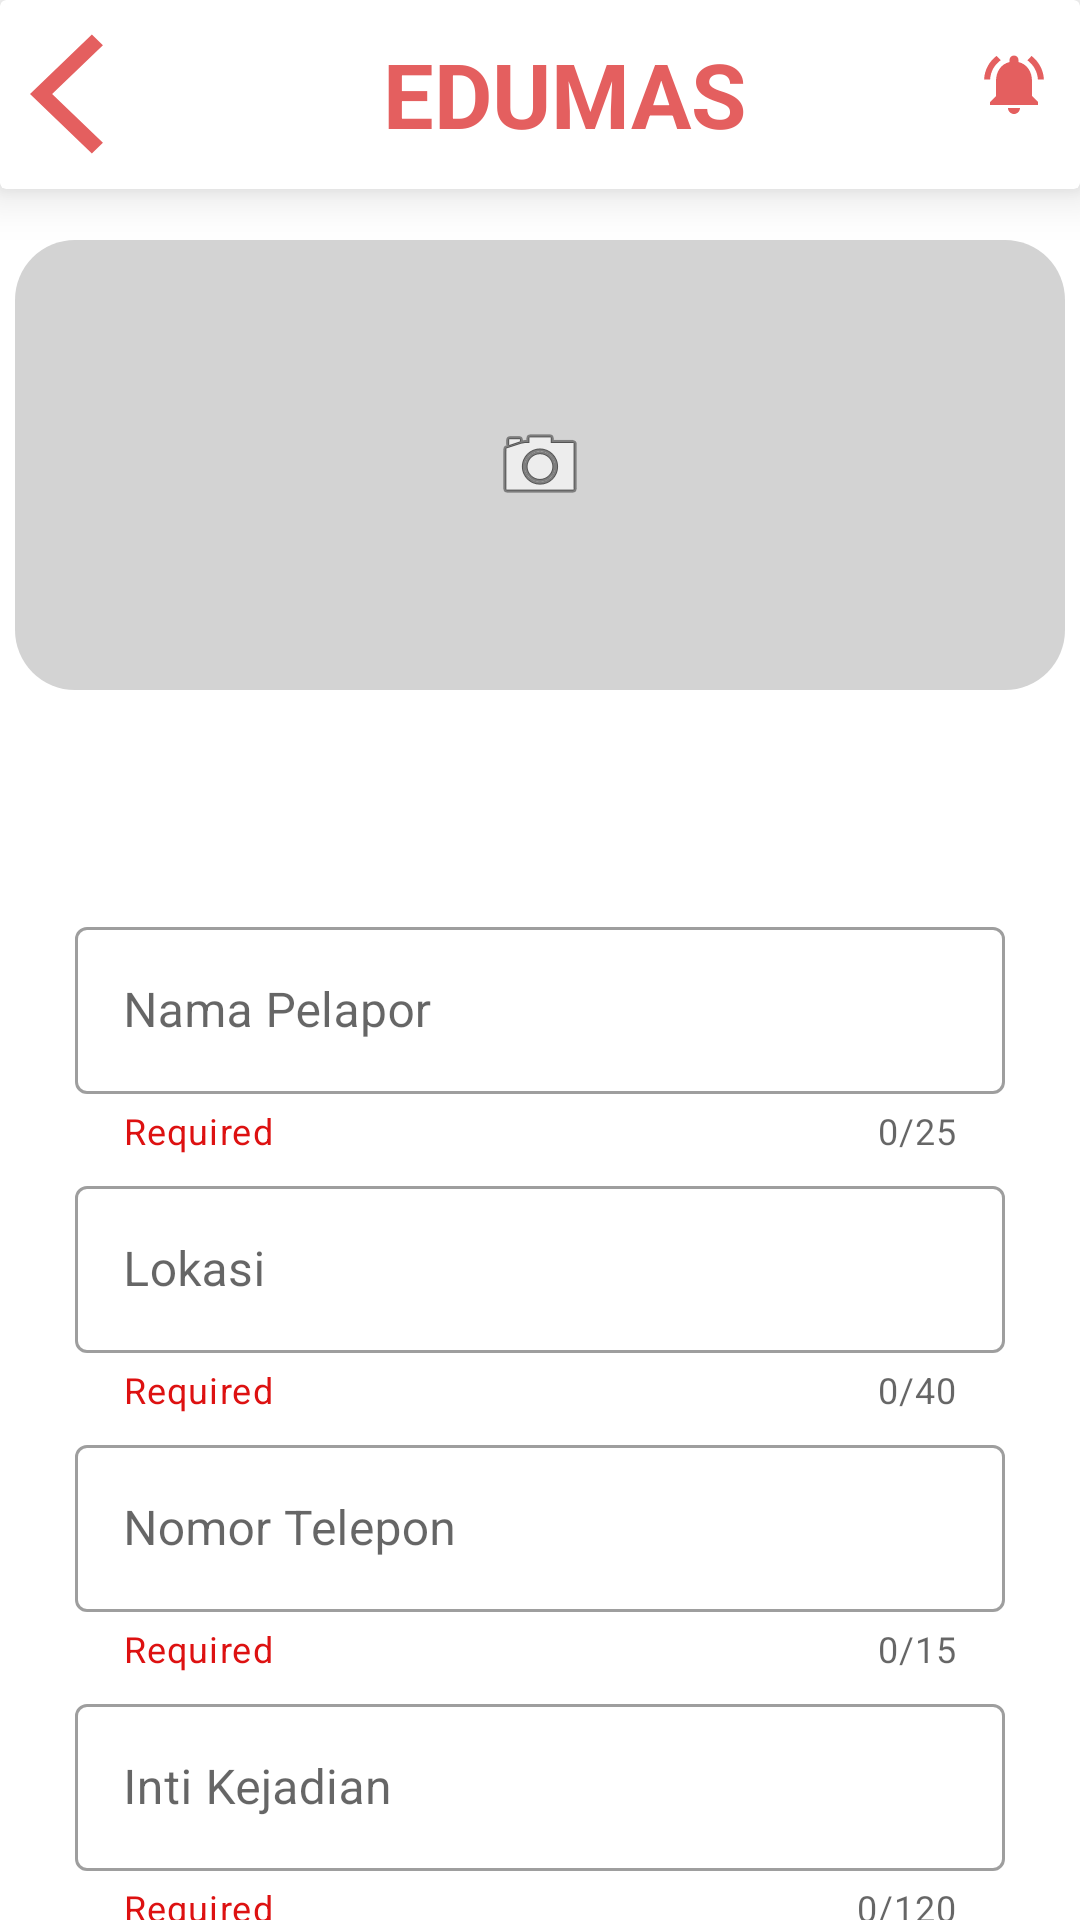

Locate icon controls on the screen. Image size 1080 × 1920, boxes as (x1=x1, y1=y1, x2=x2, y2=y2).
back: (x1=30, y1=34, x2=103, y2=154)
notif: (x1=984, y1=55, x2=1044, y2=114)
